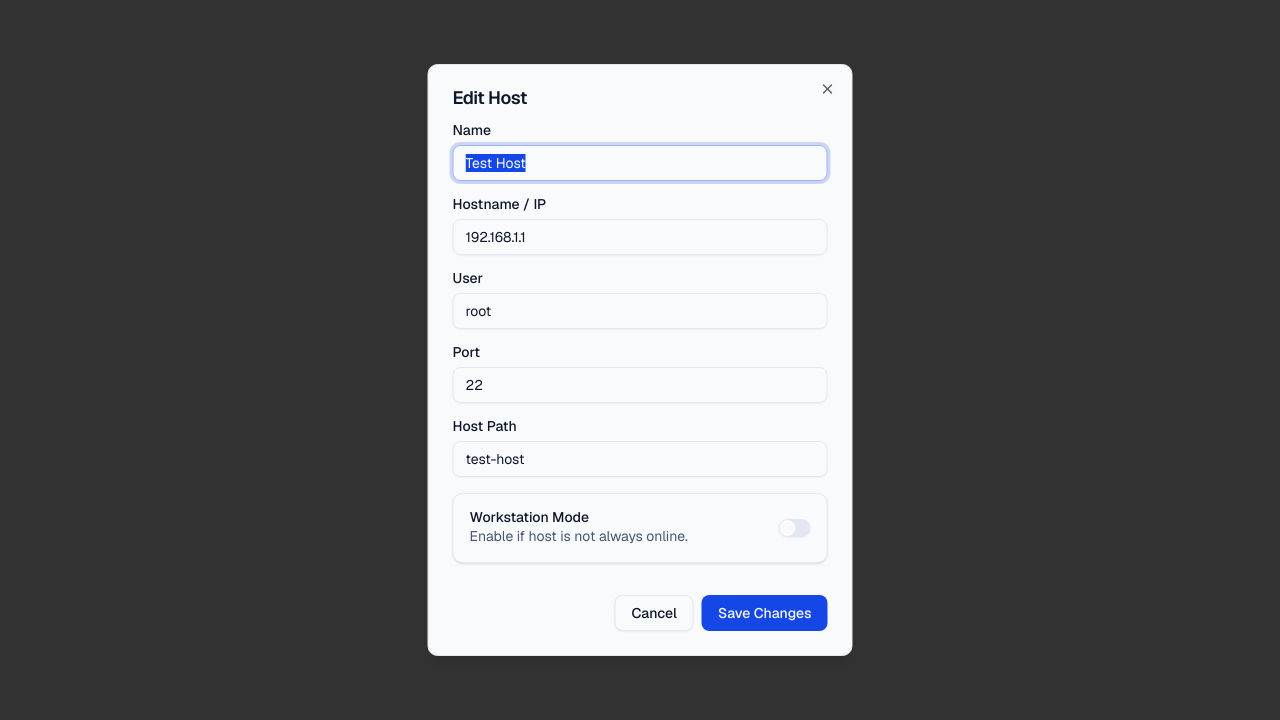
Test: EditHostDialog › displays error message when updateHost fails
The image size is (1280, 720).
Click the button "Save Changes" at (765, 613), box [702,595,828,631]
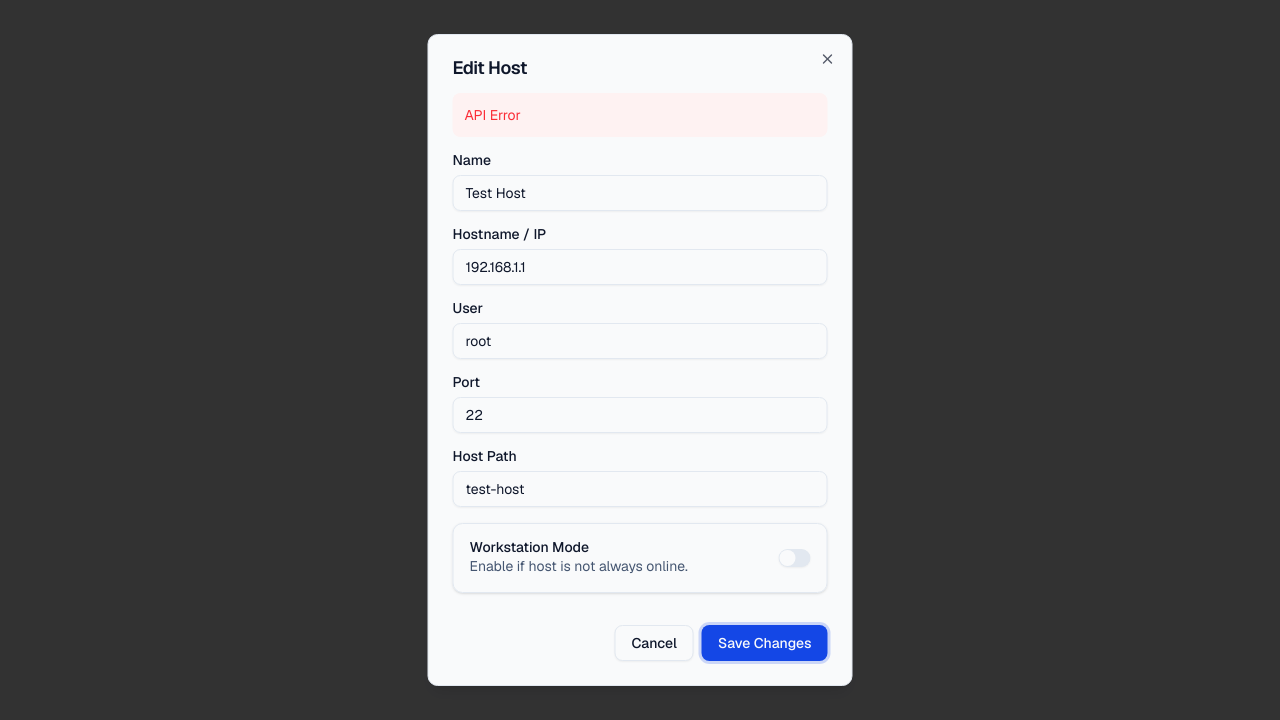
Check: the text "API Error" is shown, box [452,93,828,137]
